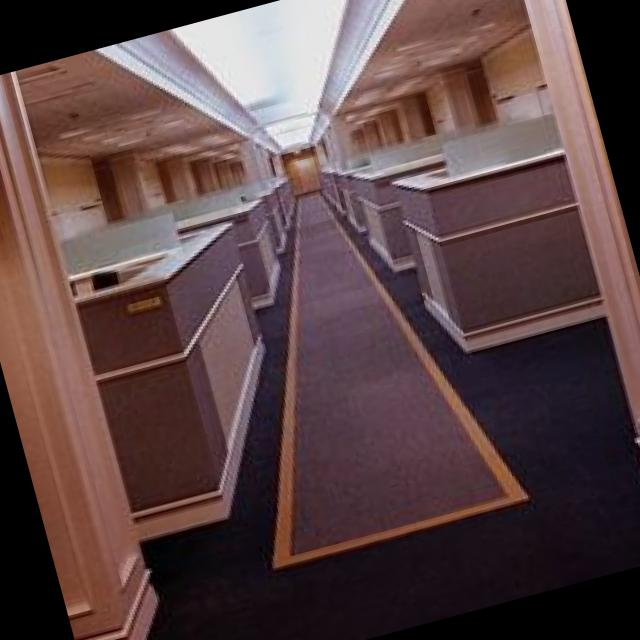rug -partially obscured-: (269, 193, 521, 564)
